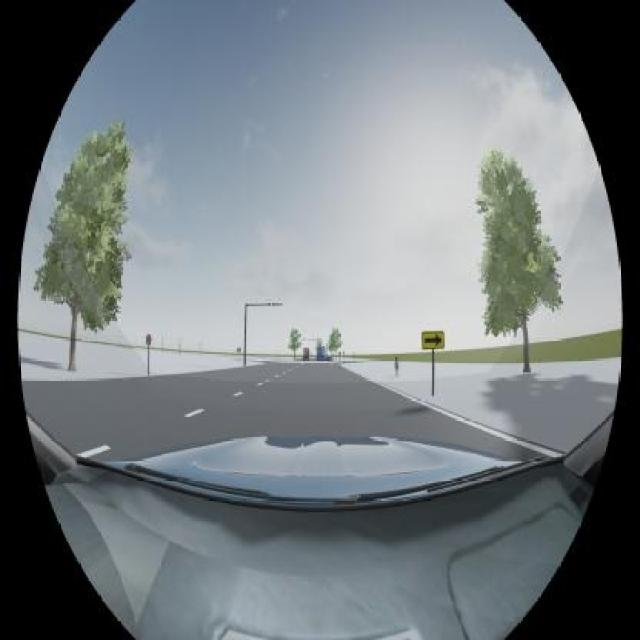forb_speed_over_30: (146, 333, 152, 345)
